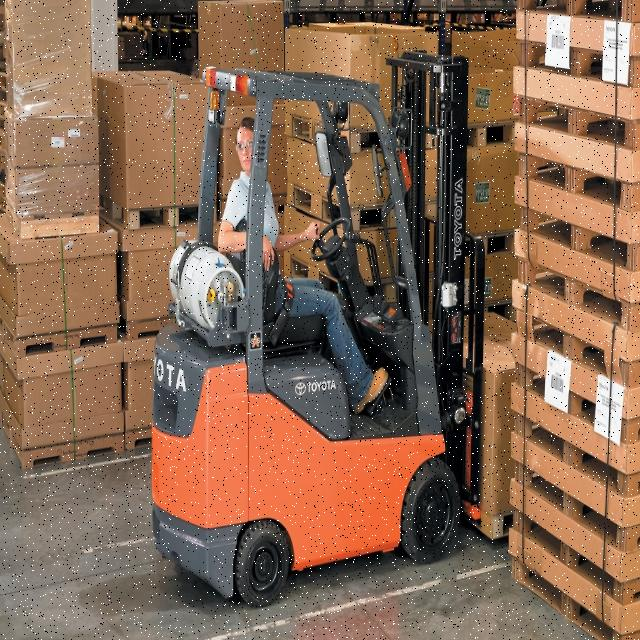Person: (219, 118, 388, 418)
